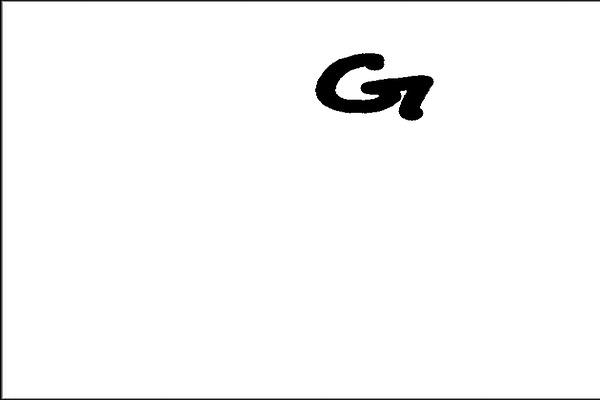G: (310, 47, 439, 124)
